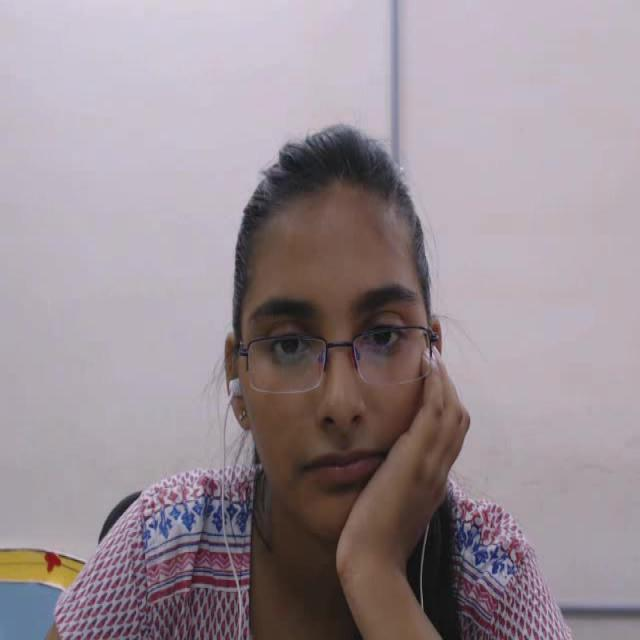Bored: (207, 88, 482, 578)
